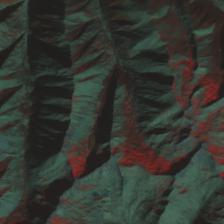landslides: (72, 14, 98, 23), (28, 32, 44, 45), (0, 198, 17, 207)
